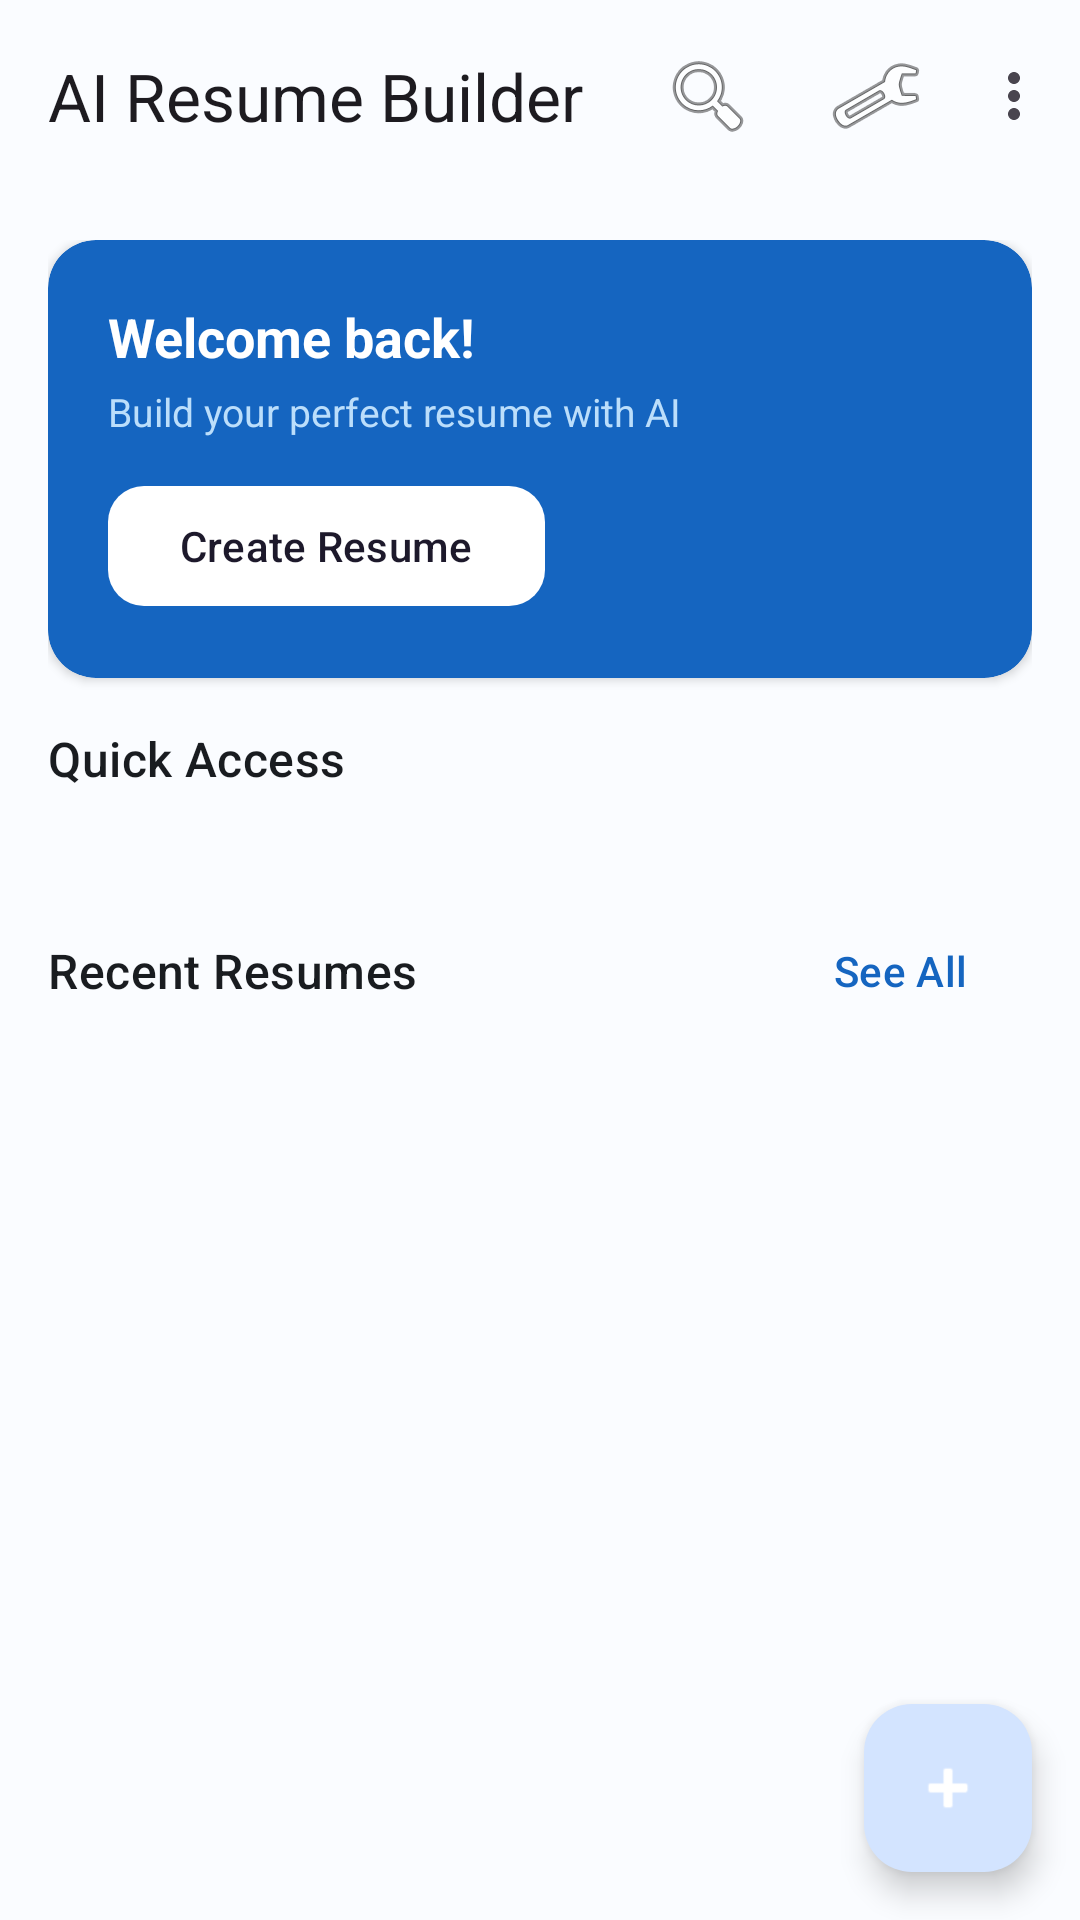

Icon click points for this 1080*1920 phone screenshot, format [x,y]:
Create Resume: [948,1788]
